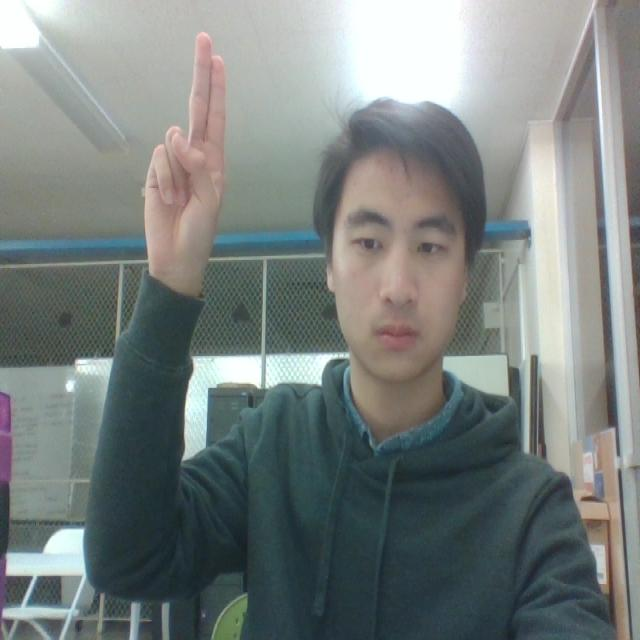U: (129, 26, 256, 288)
